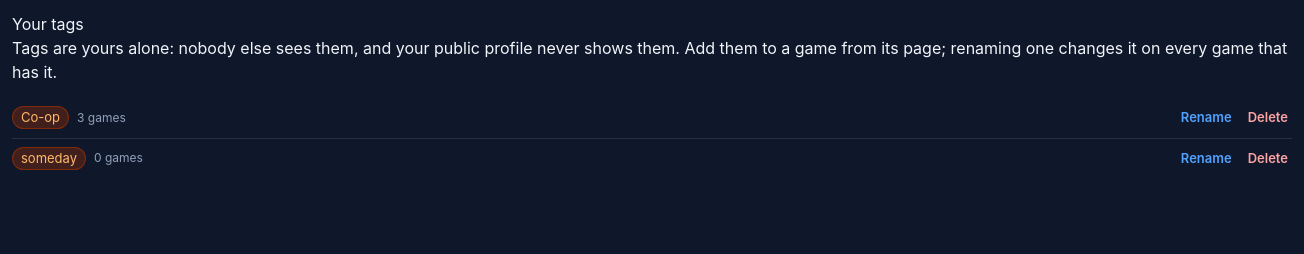
Test: TagsCard renaming › keeps what was typed and shows the refusal beside the box
The width and height of the screenshot is (1304, 254).
Click the button with aria-label "Rename Co-op" at (1206, 118), box [1177, 106, 1236, 130]
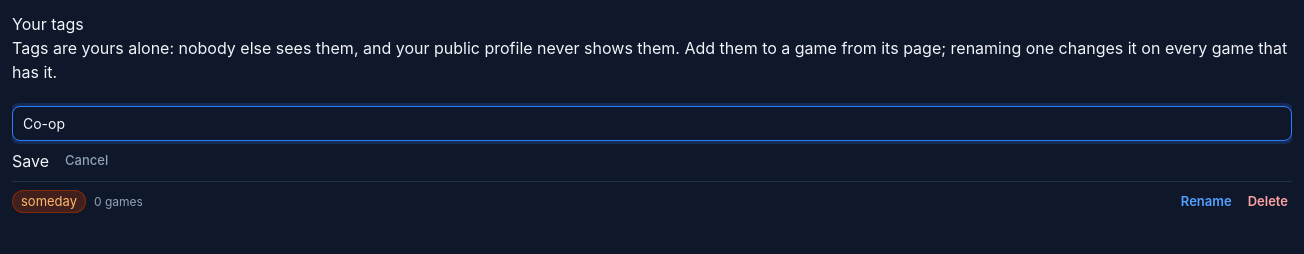
Replace the text in the field named "New name for Co-op" with "SOMEDAY" at (652, 124), box [12, 106, 1292, 141]
Then press Enter
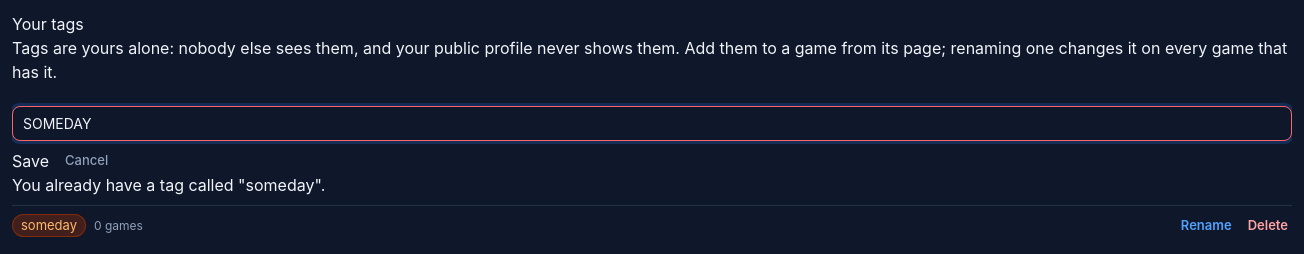
Check: the message reads "You already have a tag called \"someday\".", box [12, 175, 325, 195]
